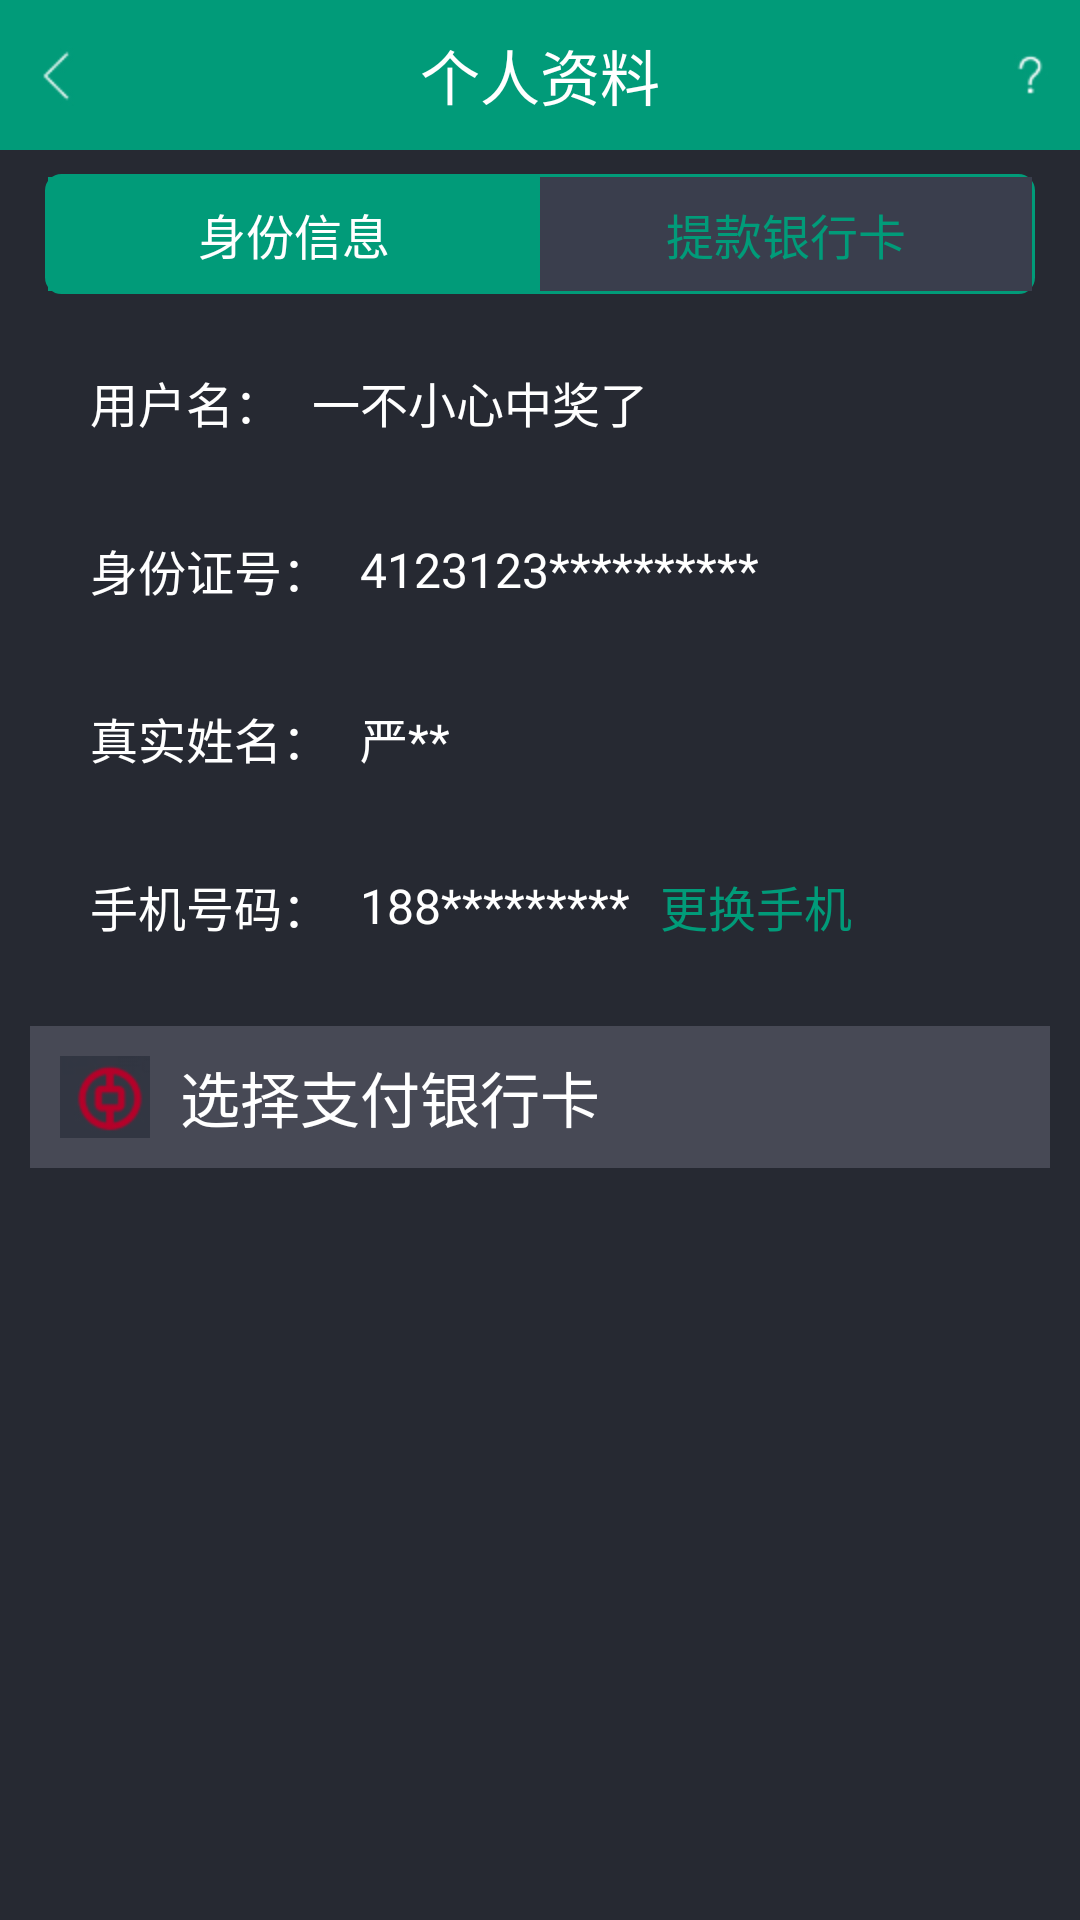

Locate icon controls on the screen. Image size 1080 x 1920, boxes as [x1,y1,x2,y2].
back: [43,52,69,100]
question: [1018,56,1042,94]
